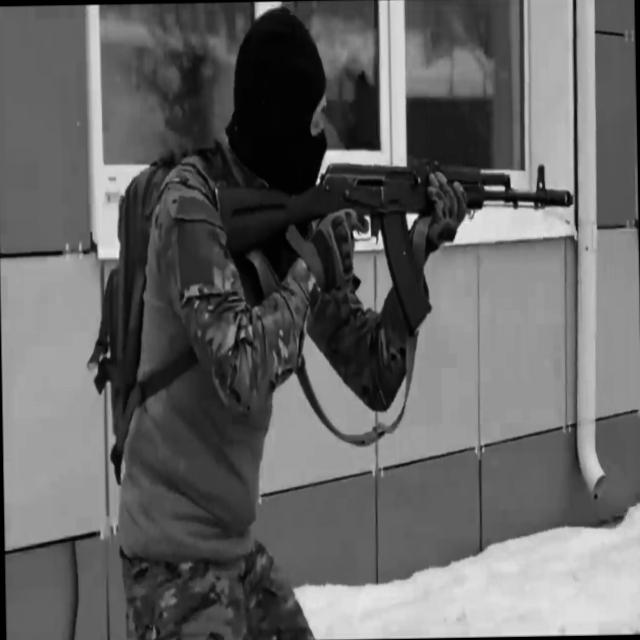gun: (213, 152, 578, 336)
person with a gun: (107, 2, 583, 640)
